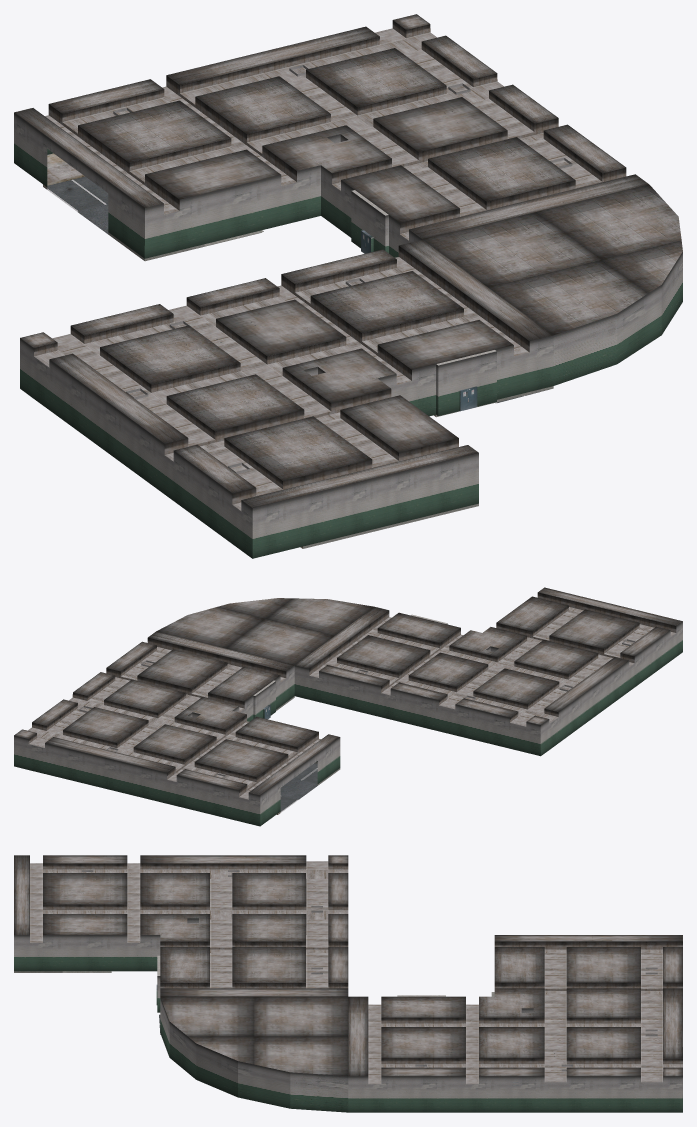
The model's file is garage.obj.
3 renders of one model, top to bottom at view 1: azimuth 30°, elevation 25°; view 2: azimuth 150°, elevation 25°; view 3: azimuth 270°, elevation 25°, orthographic. The views are drawn at different scales.
Visible parts, largest first — view 1: carimp_SFE; view 2: carimp_SFE; view 3: carimp_SFE.
Boxes of the visible parts, <box> form: carimp_SFE: <box>14,14,682,558</box>; carimp_SFE: <box>14,587,682,826</box>; carimp_SFE: <box>14,855,682,1112</box>.
Bounding box in the file's own units: 88.19 × 7.19 × 113.
13 materials, 13 textured.
